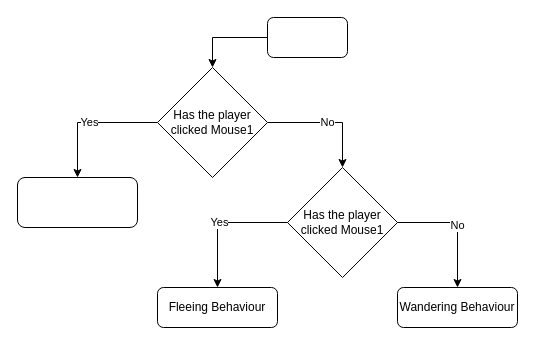
Some shapes in this 535 by 345 pixel diagram are drawn without their labels. Here are the shapes that lost their labels. From the top down, the centre of each, then its label:
point 307,37: Agent
point 77,202: Path-finding behaviour
